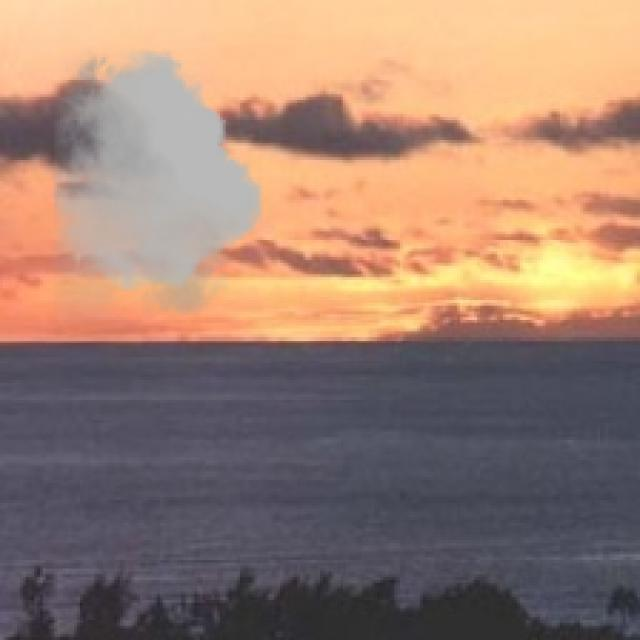Smoke: (54, 46, 263, 323)
